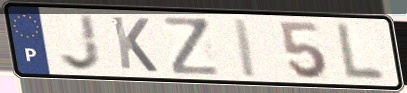5: (276, 19, 330, 81)
I: (231, 16, 261, 80)
J: (57, 12, 104, 72)
K: (109, 14, 161, 74)
L: (334, 20, 389, 84)
Z: (160, 15, 223, 78)
